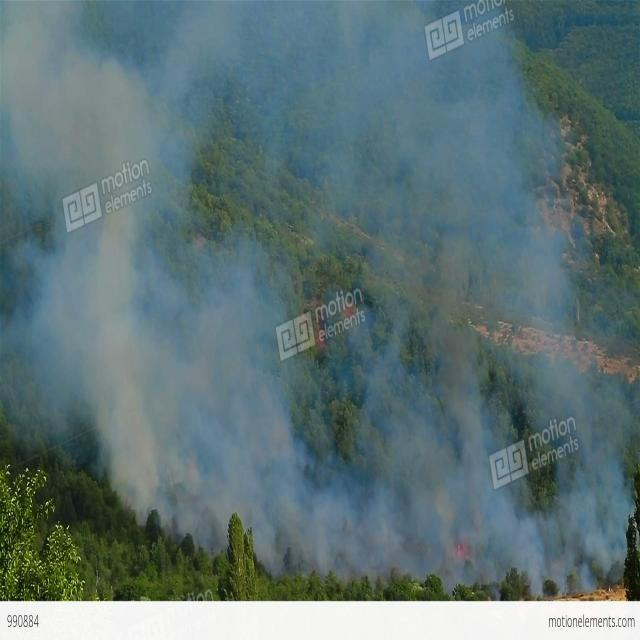Smoke: (8, 61, 228, 451), (132, 0, 493, 143), (212, 371, 388, 581)
